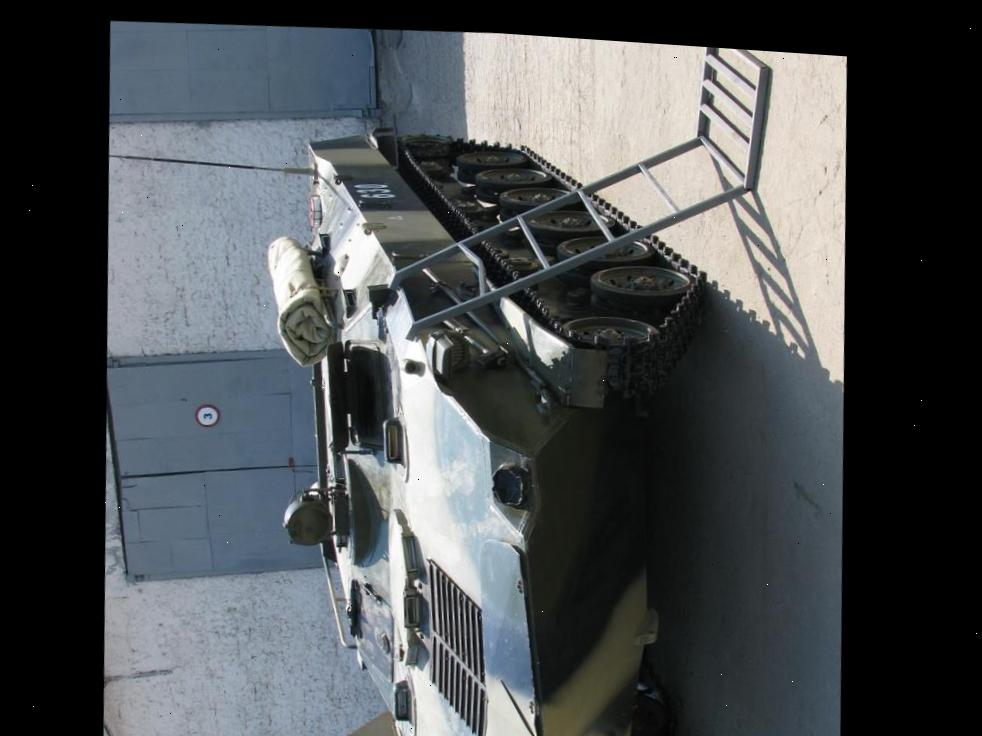tank: (236, 103, 731, 736), (340, 698, 608, 736)
